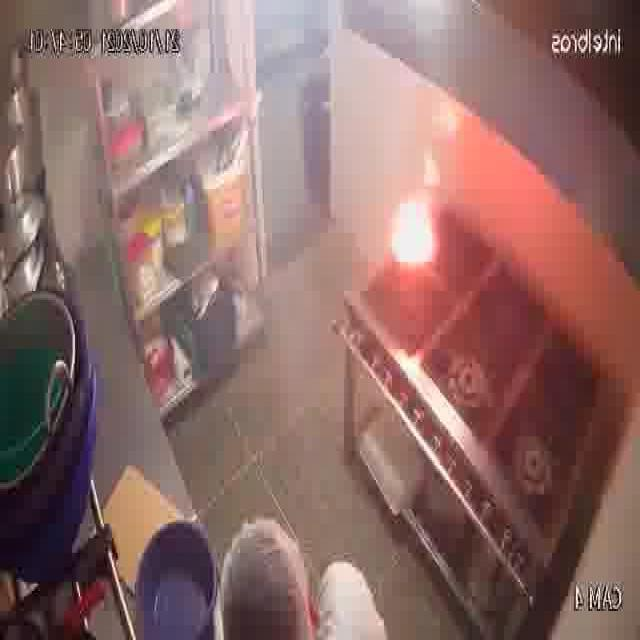Fire: (364, 136, 464, 332)
